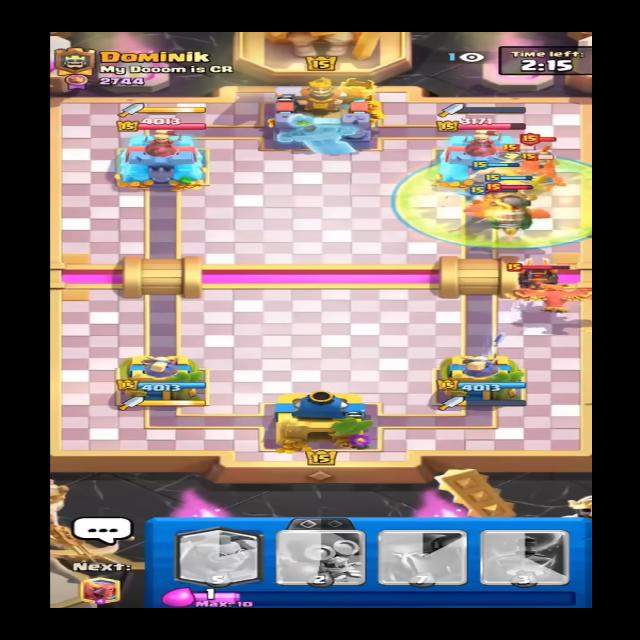inferno-dragon: (482, 180, 537, 228)
lava-hound: (501, 253, 575, 296)
